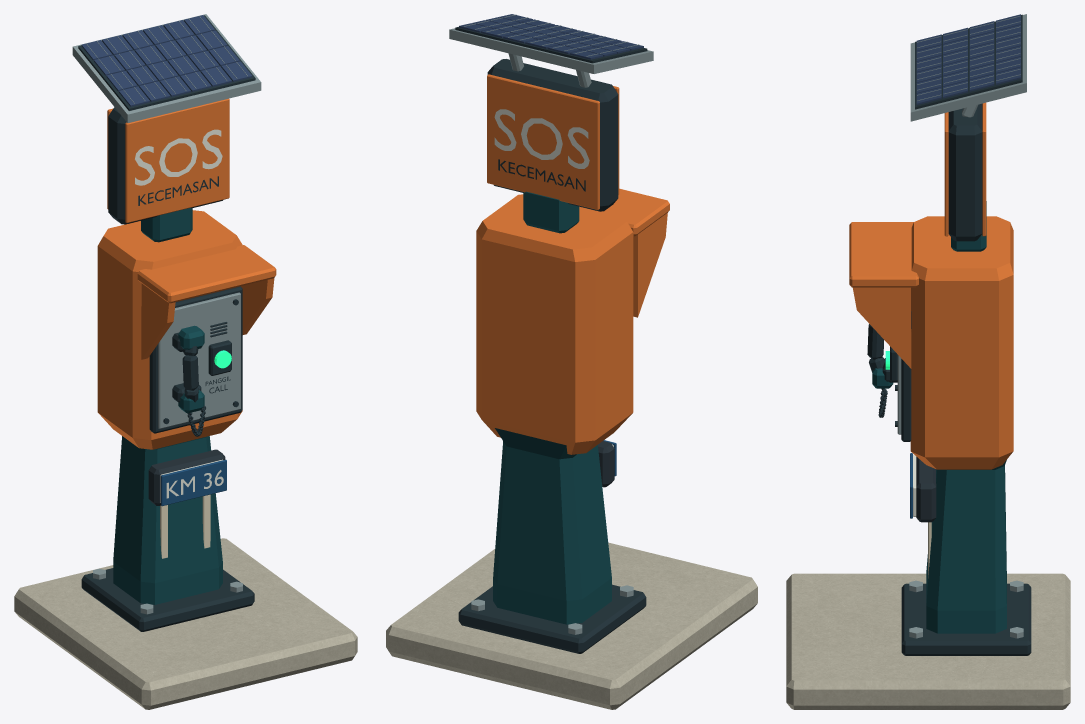
3 renders of one model, left to right at view 1: azimuth 30°, elevation 25°; view 2: azimuth 150°, elevation 25°; view 3: azimuth 270°, elevation 25°, orthographic. The views are drawn at different scales.
Parts seen in each view (by area): view 1: Concrete Pad, Orange Cabinet, Lower Pedestal, Rescue Beacon, PV Cells, Service Escutcheon, Rain Visor, Base Plate, Distance Marker, Hood Cheeks, Solar Frame, Service Print (+7 smaller); view 2: Orange Cabinet, Concrete Pad, Lower Pedestal, Rescue Beacon, Base Plate, PV Cells, Solar Frame, Service Print, Hood Cheeks, Marker Neck, Rain Visor, Cell Bed (+2 smaller); view 3: Concrete Pad, Orange Cabinet, Lower Pedestal, PV Cells, Rescue Beacon, Base Plate, Rain Visor, Hood Cheeks, Solar Frame, Distance Marker, Cell Traces, Service Escutcheon (+4 smaller).
Boxes of the visible parts, <box> form: Concrete Pad: <box>14,538,357,709</box>; Orange Cabinet: <box>97,210,242,449</box>; Lower Pedestal: <box>113,436,222,604</box>; Rescue Beacon: <box>107,98,229,224</box>; PV Cells: <box>81,15,252,106</box>; Service Escutcheon: <box>149,286,242,433</box>; Rain Visor: <box>137,245,276,303</box>; Base Plate: <box>81,568,254,631</box>; Distance Marker: <box>148,449,226,506</box>; Hood Cheeks: <box>141,278,274,359</box>; Solar Frame: <box>72,14,261,122</box>; Service Print: <box>135,129,230,393</box>; Orange Cabinet: <box>476,194,633,454</box>; Concrete Pad: <box>386,542,757,709</box>; Lower Pedestal: <box>493,428,611,624</box>; Rescue Beacon: <box>487,59,619,211</box>; Base Plate: <box>458,584,646,653</box>; PV Cells: <box>459,14,643,59</box>; Solar Frame: <box>449,28,653,73</box>; Service Print: <box>494,109,589,191</box>; Hood Cheeks: <box>633,212,667,317</box>; Marker Neck: <box>523,191,579,233</box>; Rain Visor: <box>606,188,669,236</box>; Cell Bed: <box>455,27,647,63</box>; Concrete Pad: <box>786,573,1070,709</box>; Orange Cabinet: <box>910,216,1013,469</box>; Lower Pedestal: <box>926,460,1006,633</box>; PV Cells: <box>916,14,1020,104</box>; Rescue Beacon: <box>944,102,986,241</box>; Base Plate: <box>901,583,1031,655</box>; Rain Visor: <box>849,222,918,287</box>; Hood Cheeks: <box>853,287,911,368</box>; Solar Frame: <box>910,14,1026,121</box>; Distance Marker: <box>910,453,936,522</box>; Cell Traces: <box>917,16,1020,100</box>; Service Escutcheon: <box>897,311,911,441</box>.
Size of the model in its own units: 1.18 by 3.01 by 1.27.
12 materials, 1 textured.
